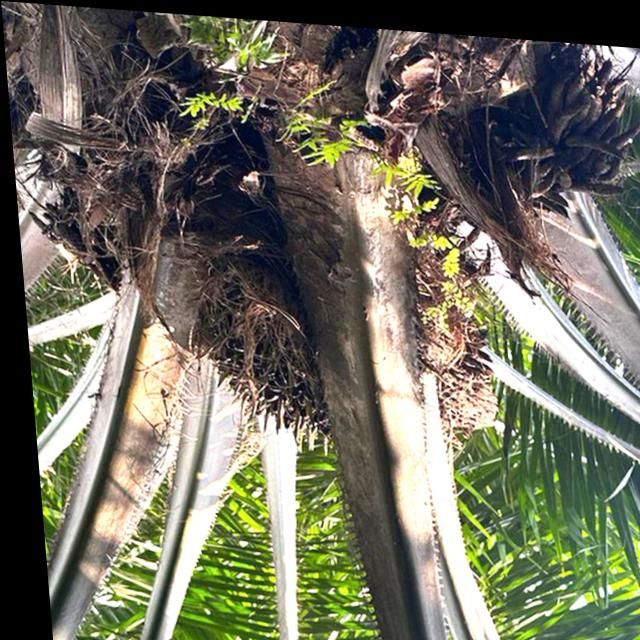unripe: (169, 250, 342, 454)
